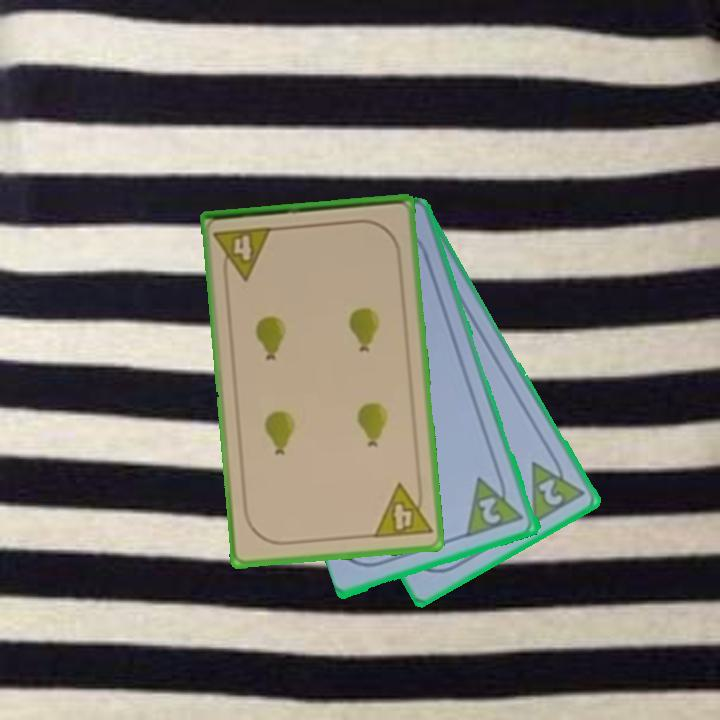2p: (527, 448, 589, 527), (463, 468, 528, 541)
4p: (370, 478, 435, 542), (211, 223, 276, 284)
